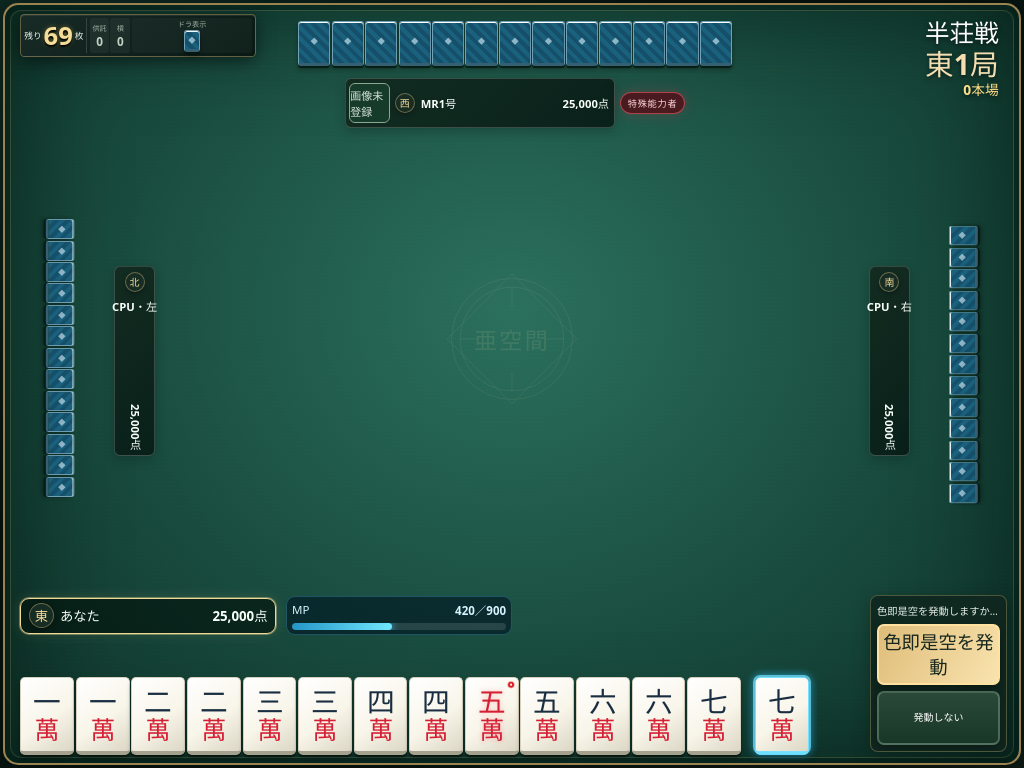
it: プレイヤースキル3-14の画面操作 › 発動後に第1ツモ分のMPを加算して局を開始する
The image size is (1024, 768).
What coordinates should you click on to do the following:
click the button "色即是空を発動"
I would click on:
 (938, 655)
Its box is [877,624,1000,685].
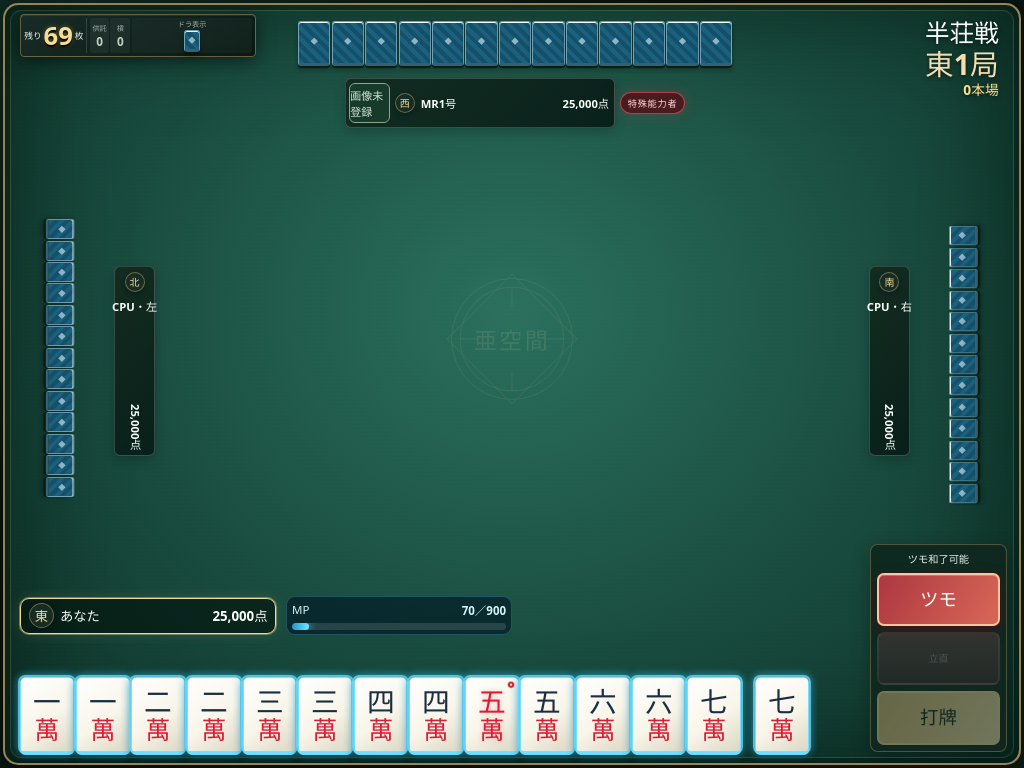
Now the button "発動しない" is gone
